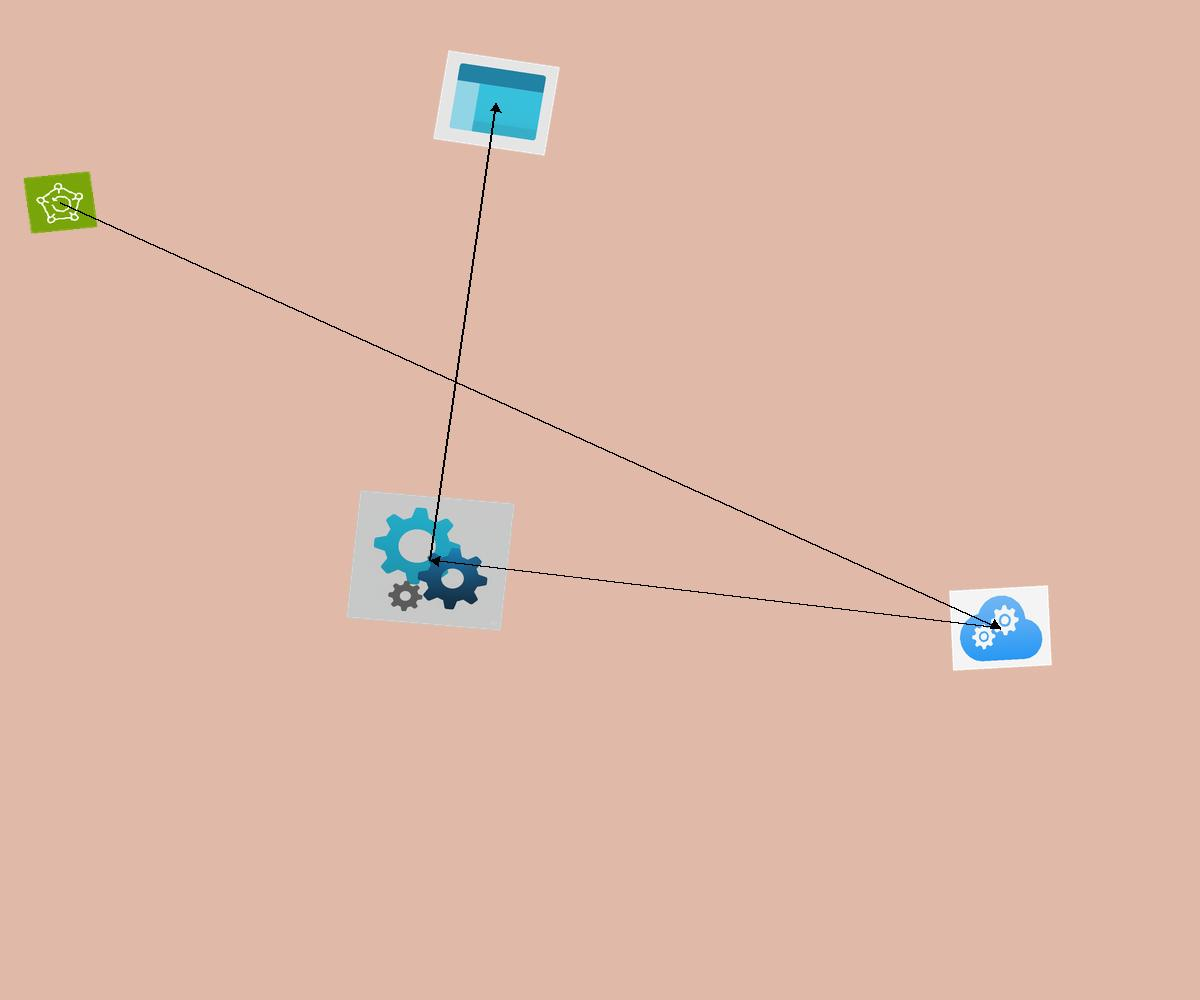AWS-Backup: (23, 171, 98, 234)
Azure_api: (346, 490, 515, 631)
Azure_cloud_services: (949, 585, 1052, 671)
Azure_management-portal: (433, 50, 560, 156)
